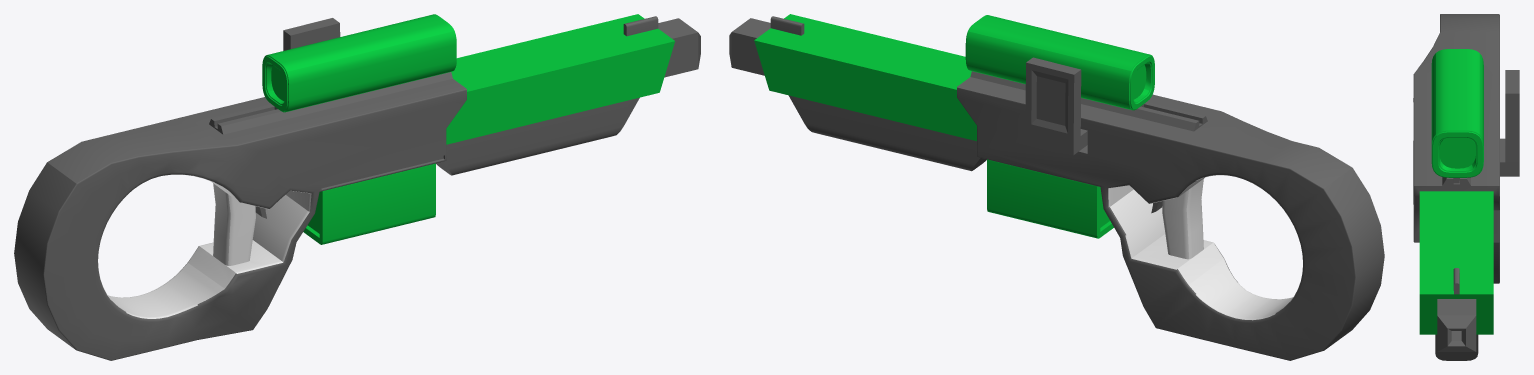
Rendered from laser v3.fbx.
3 renders of one model, left to right at view 1: azimuth 30°, elevation 25°; view 2: azimuth 150°, elevation 25°; view 3: azimuth 270°, elevation 25°, orthographic. The views are drawn at different scales.
Visible parts, largest first — view 1: Cylinder001; view 2: Cylinder001; view 3: Cylinder001.
Boxes of the visible parts, x1,y1,x2,y2 form: Cylinder001: [14, 14, 700, 360]; Cylinder001: [729, 14, 1384, 360]; Cylinder001: [1413, 14, 1519, 360].
Bounding box in the file's own units: 363 × 133 × 50.77.
